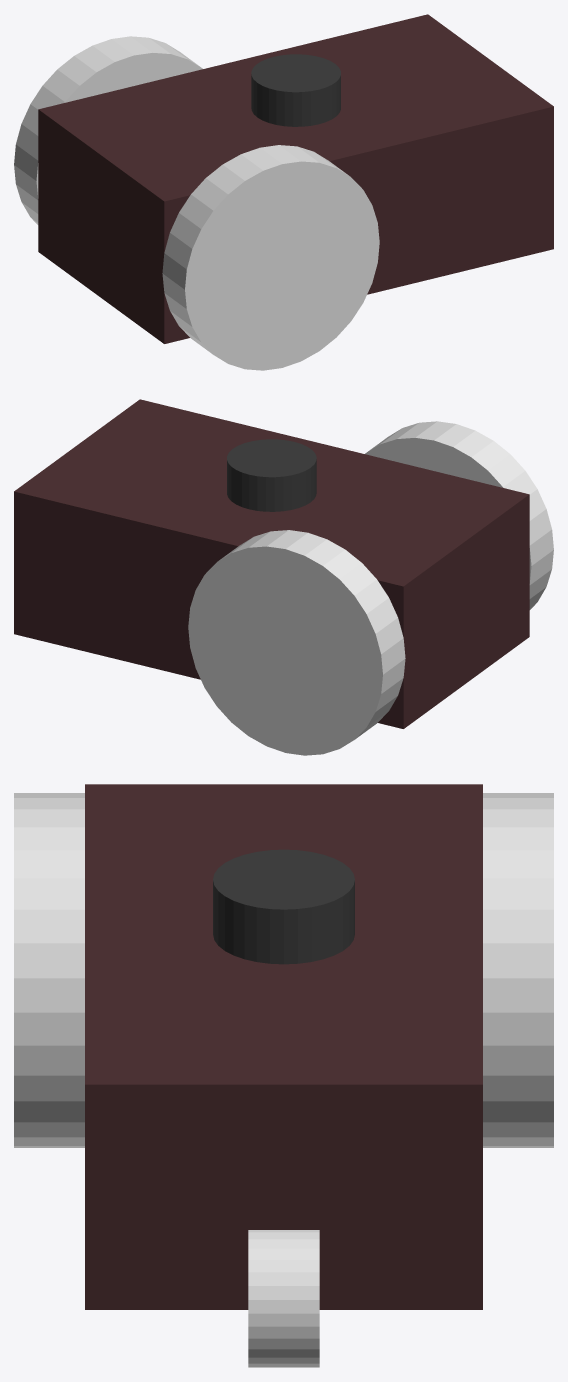
3 renders of one model, top to bottom at view 1: azimuth 30°, elevation 25°; view 2: azimuth 150°, elevation 25°; view 3: azimuth 270°, elevation 25°, orthographic. The views are drawn at different scales.
Visible parts, largest first — view 1: Cube, Cylinder, Cylinder.001, Cylinder.002; view 2: Cube, Cylinder.001, Cylinder, Cylinder.002; view 3: Cube, Cylinder, Cylinder.001, Cylinder.002, Cylinder.003.
Part boxes in pixels (bbox=[...]): Cube: bbox=[38, 14, 553, 343]; Cylinder: bbox=[162, 145, 379, 370]; Cylinder.001: bbox=[14, 36, 202, 224]; Cylinder.002: bbox=[251, 54, 340, 126]; Cube: bbox=[14, 399, 529, 728]; Cylinder.001: bbox=[188, 530, 405, 755]; Cylinder: bbox=[365, 421, 553, 609]; Cylinder.002: bbox=[227, 439, 316, 511]; Cube: bbox=[85, 784, 482, 1309]; Cylinder: bbox=[14, 793, 84, 1147]; Cylinder.001: bbox=[483, 793, 553, 1147]; Cylinder.002: bbox=[213, 849, 354, 964]; Cylinder.003: bbox=[248, 1230, 319, 1367].
Size of the model in its own units: 0.3223 by 0.1474 by 0.2197.
